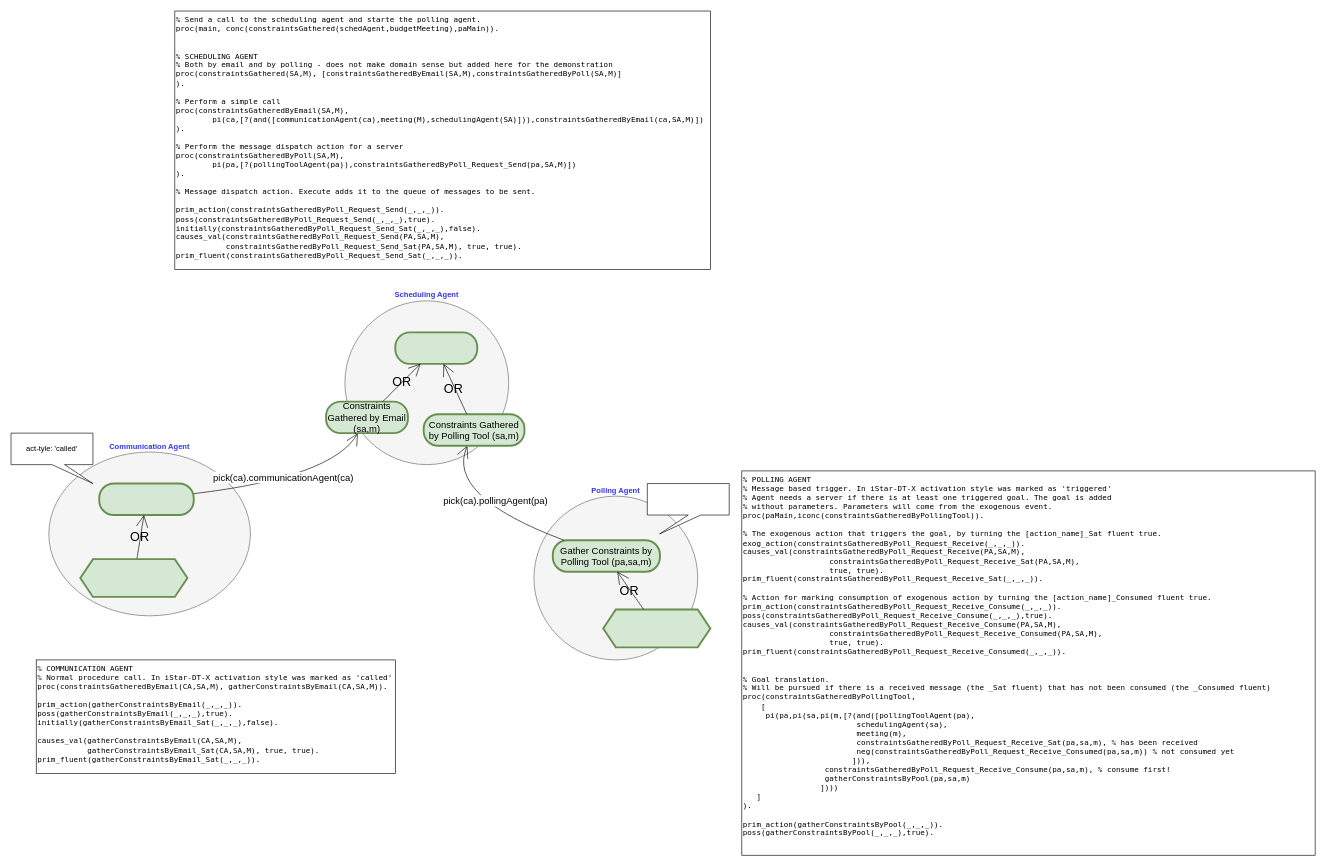
This 1326x866 diagram has some shape labels left out. The shapes that lost their labels are listed below. From the top down, each one's centre as x and y in pixels, then its label:
At pixel 436 347: "Meeting Scheduled (sa,m)".
At pixel 146 499: "Constraints Gathered by Email (ca, sa,m)".
At pixel 688 508: "act-tyle: 'triggered'".
At pixel 133 578: "Gather Constraints By Email(ca, sa, m)".
At pixel 656 628: "Gather Constraints By Pool(pa, sa, m)".
